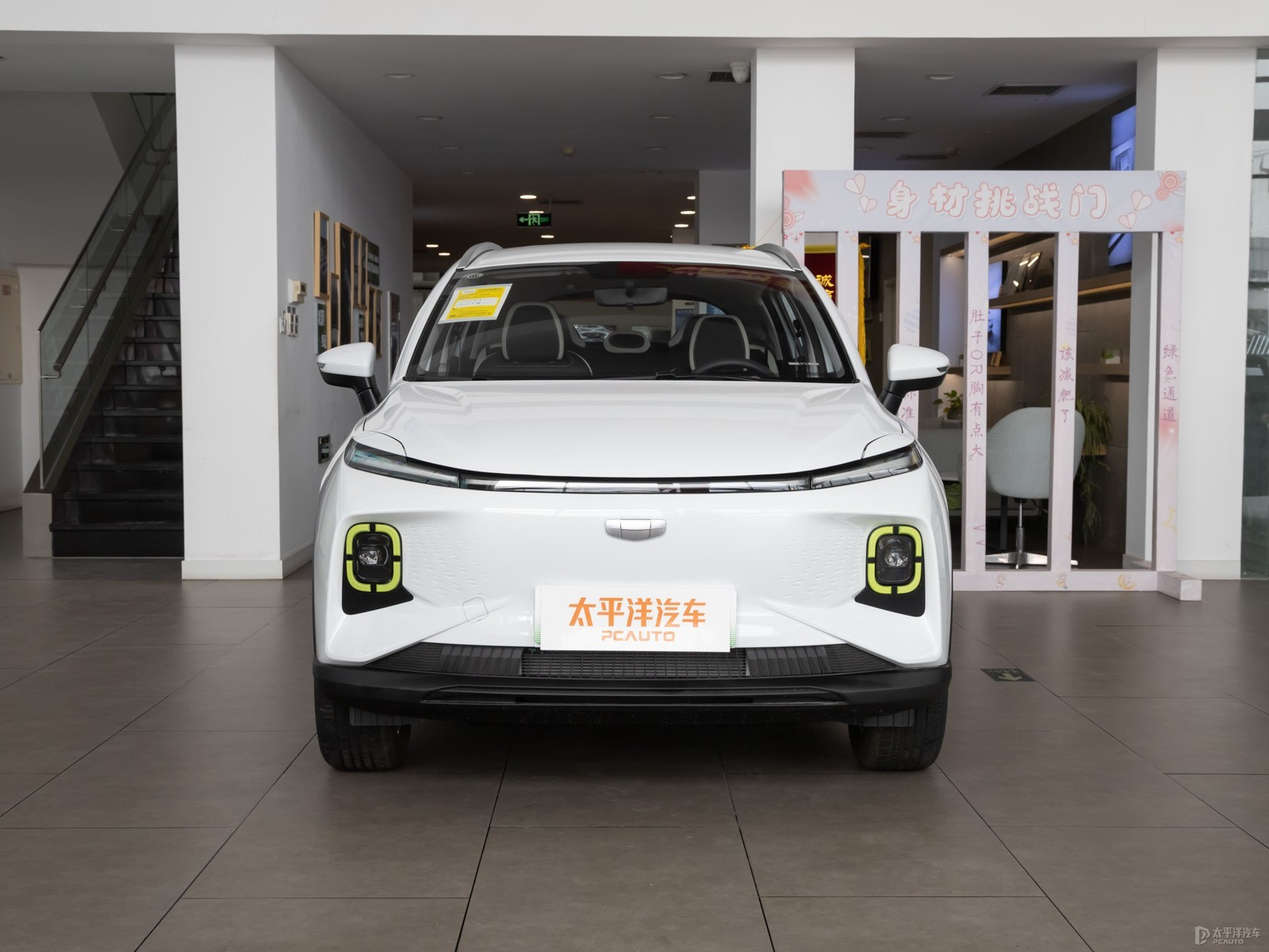GEOMETRY: (606, 520, 665, 539)
